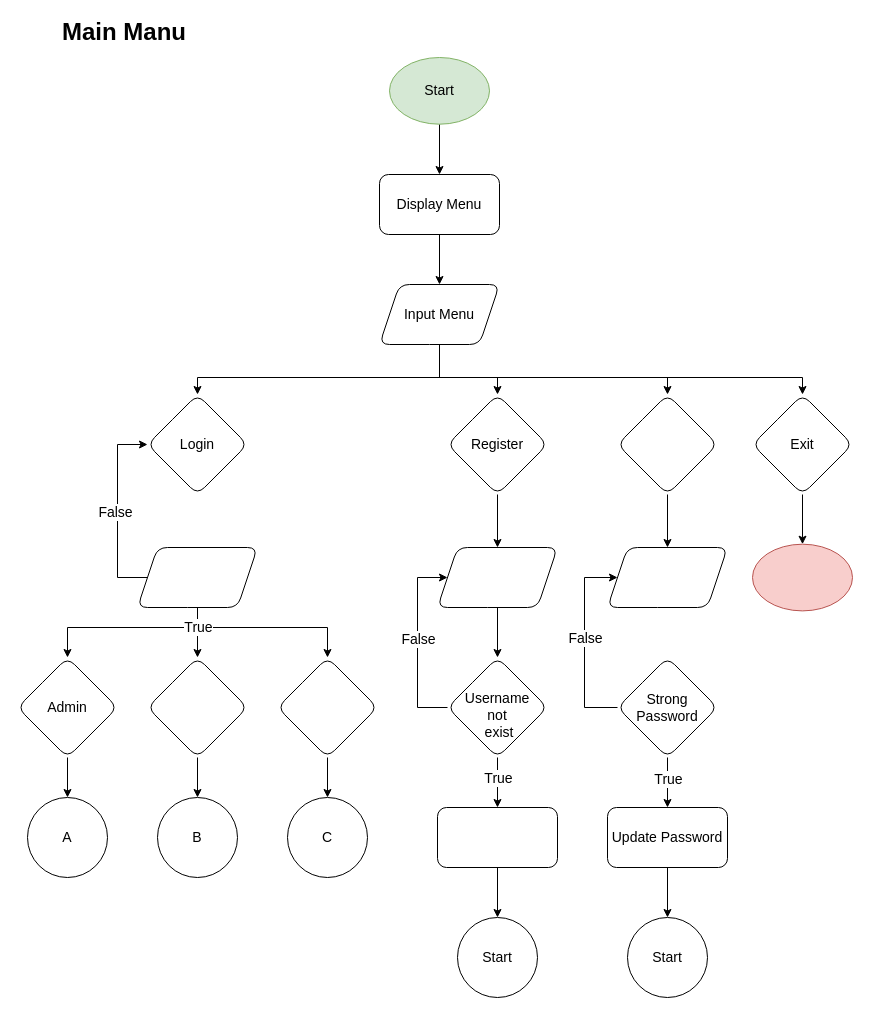
Some shapes in this 870 by 1015 pixel diagram are drawn without their labels. Here are the shapes that lost their labels. From the top down, the centre of each, then its label:
At point (667, 444): "Reset Password".
At point (197, 577): "Input Login".
At point (497, 577): "Input Data".
At point (667, 577): "Input User".
At point (802, 577): "End".
At point (197, 707): "Doctor".
At point (327, 707): "User".
At point (497, 837): "Create New User".
